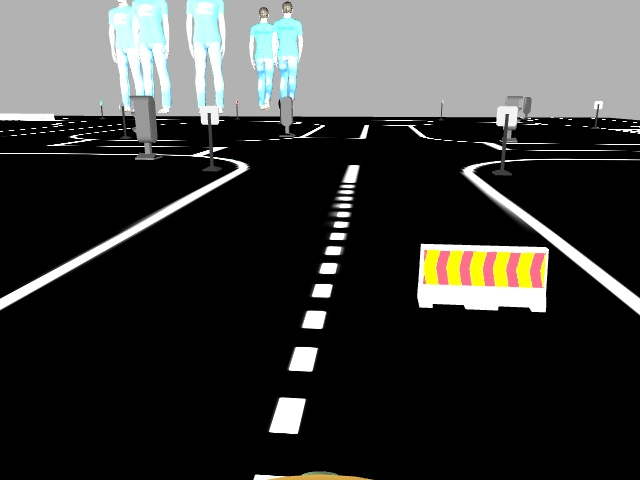ClosedRoadStand: (422, 243, 546, 309)
